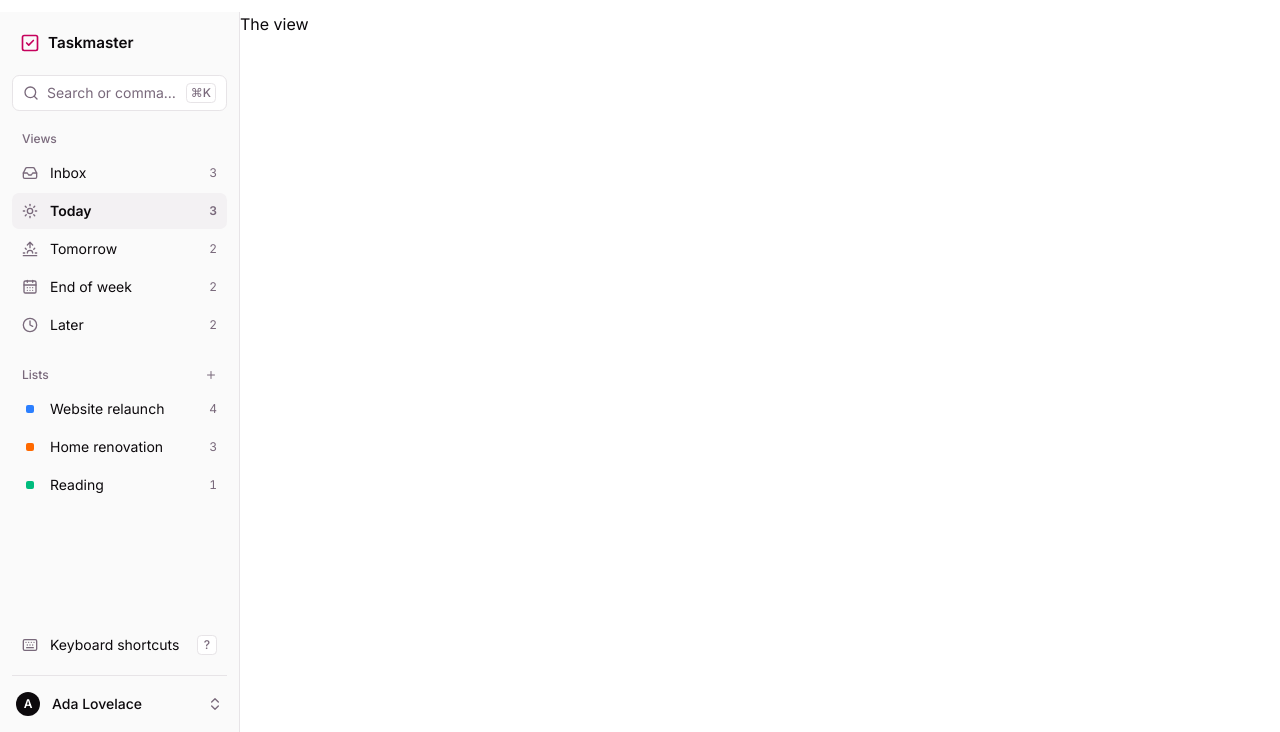
it: WorkspaceShell › shows a list loading with its number of open tasks
Step 1. Click the link "Website relaunch 4" → (122, 408), box [26, 400, 217, 417]
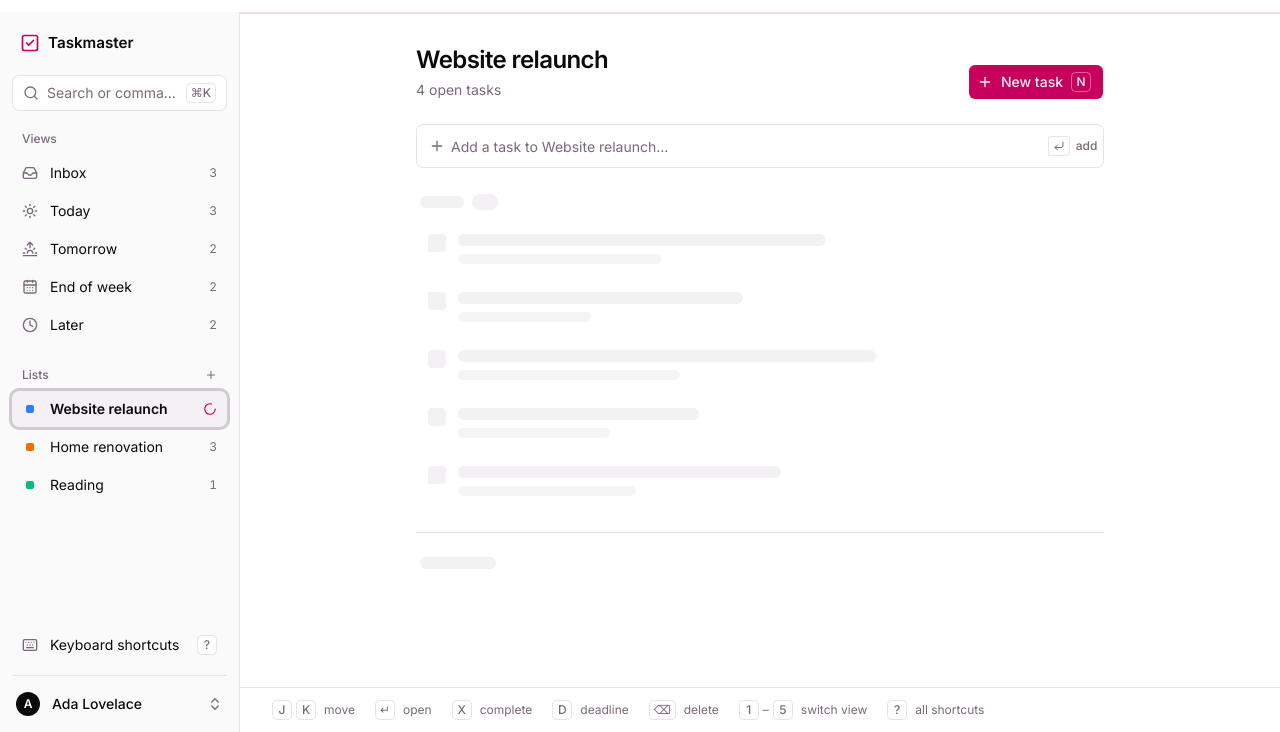
expect the heading "Website relaunch" is shown: met, box [416, 44, 608, 76]
